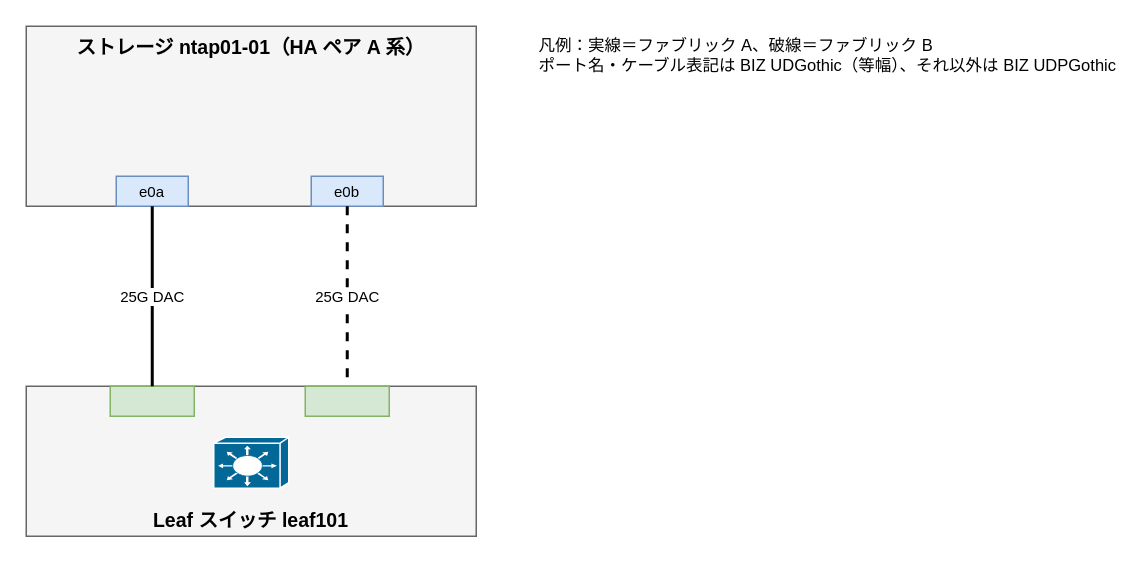
This 1140x563 diagram has some shape labels left out. The box of each missing label's shape, as (x1, y1, x2, y2) in pixels:
Eth1/1: (109, 385, 194, 416)
Eth1/2: (304, 385, 389, 416)
